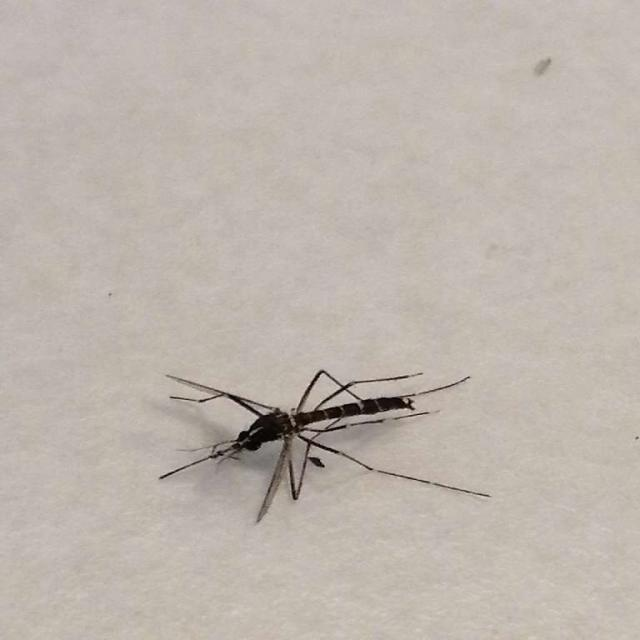albopictus: (145, 345, 477, 533)
